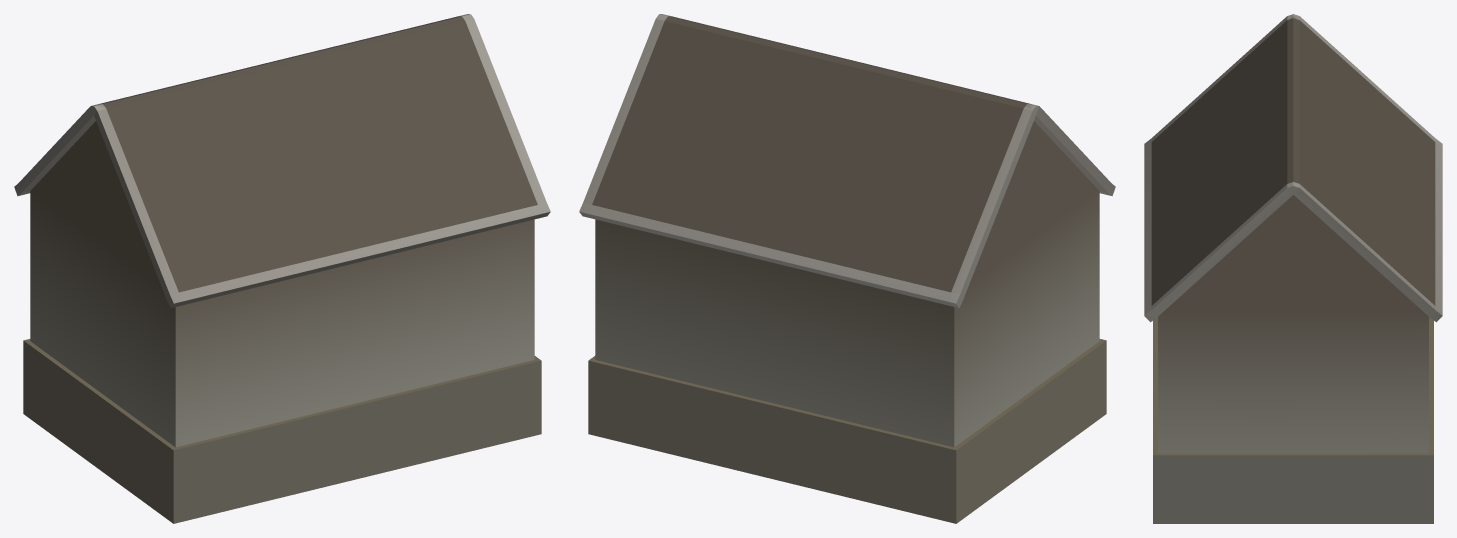
File: Base-1Floor_A.fbx
The picture shows the model from 3 angles, left to right: view 1: azimuth 30°, elevation 25°; view 2: azimuth 150°, elevation 25°; view 3: azimuth 270°, elevation 25°; orthographic projection. The views are drawn at different scales.
Visible parts, largest first — view 1: Base-1Floor_A; view 2: Base-1Floor_A; view 3: Base-1Floor_A.
Boxes of the visible parts, x1=… form: Base-1Floor_A: x1=14, y1=14, x2=550, y2=523; Base-1Floor_A: x1=579, y1=14, x2=1115, y2=523; Base-1Floor_A: x1=1144, y1=14, x2=1442, y2=523.
Size of the model in its own units: 1050 by 968 by 771.
